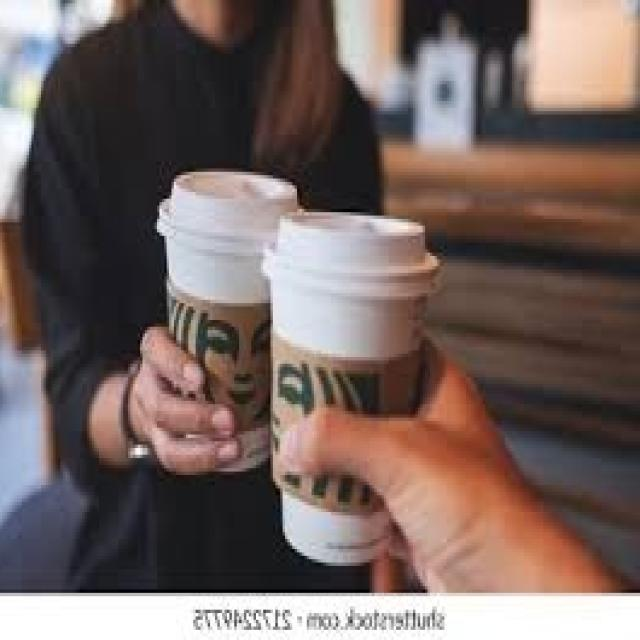starbucks: (267, 357, 382, 488), (166, 298, 274, 434)
